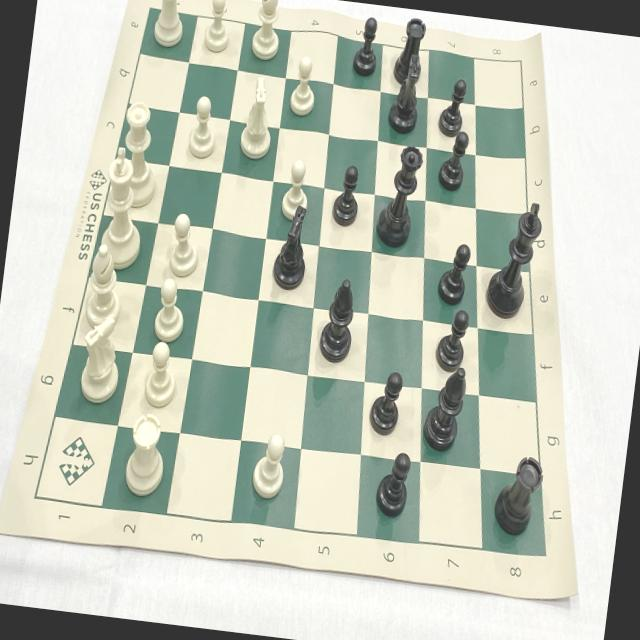black-bishop: (419, 356, 469, 454), (316, 274, 360, 364)
black-king: (482, 191, 548, 323)
black-knight: (264, 204, 316, 294), (383, 48, 427, 135)
black-pawn: (371, 448, 413, 525), (364, 367, 405, 436), (433, 237, 472, 309), (432, 306, 472, 374), (434, 128, 471, 194), (327, 161, 363, 227), (348, 13, 382, 82), (436, 76, 469, 139)
black-queen: (374, 138, 424, 248)
black-rook: (490, 446, 543, 536), (387, 13, 431, 88)
white-bishop: (78, 238, 128, 330), (248, 0, 286, 65)
white-king: (92, 142, 154, 272)
white-knight: (73, 312, 127, 408), (234, 72, 280, 164)
white-pawn: (247, 428, 291, 504), (140, 337, 182, 412), (162, 210, 204, 276), (284, 49, 322, 120), (151, 272, 188, 342), (184, 94, 222, 160), (278, 155, 312, 223), (199, 0, 236, 56)
white-queen: (110, 95, 168, 212)
white-rook: (120, 404, 170, 497), (145, 0, 191, 48)
